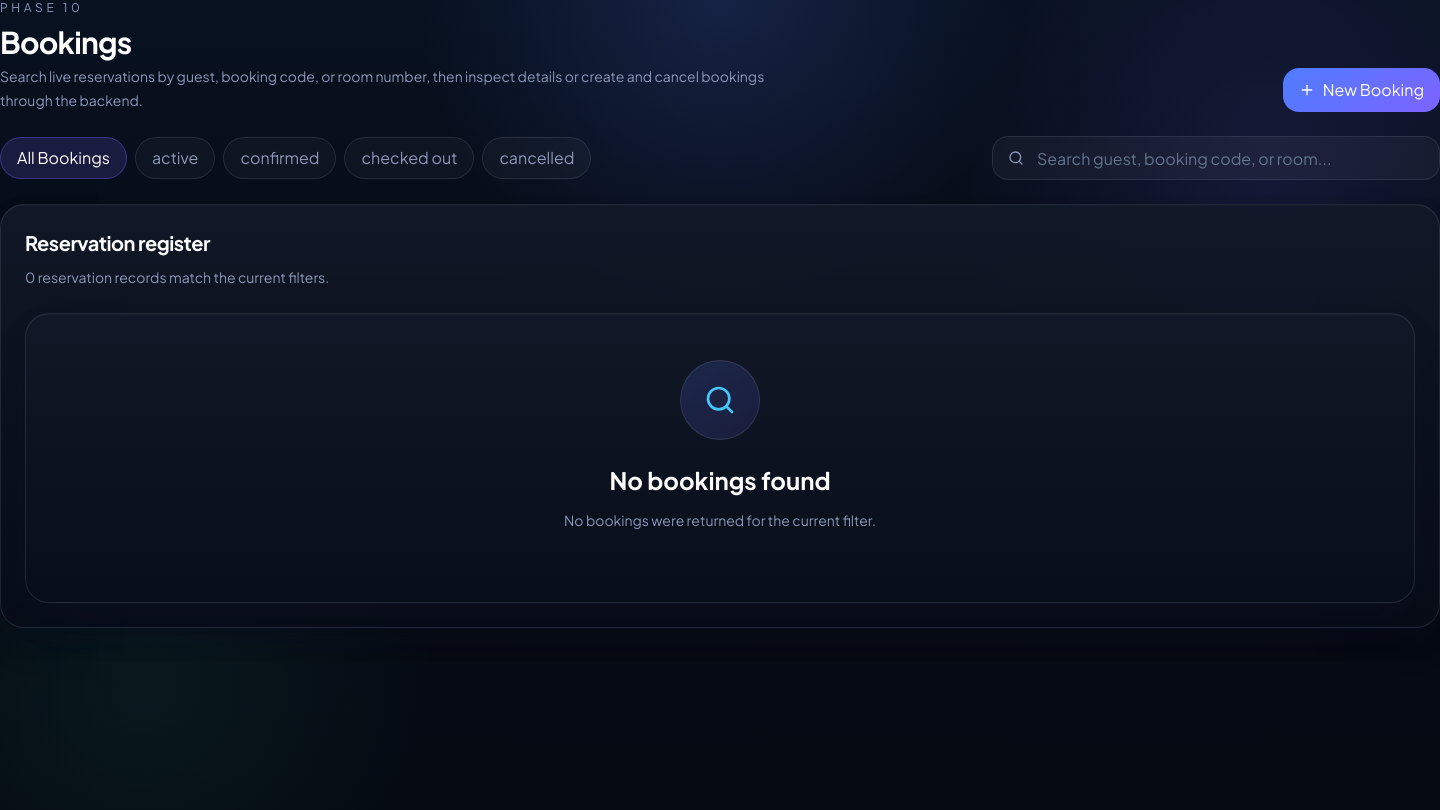
it: frontend components › booking form blocks end date before start date
The image size is (1440, 810).
Click the button "New Booking": (1361, 90) x1=1283 y1=68 x2=1439 y2=112
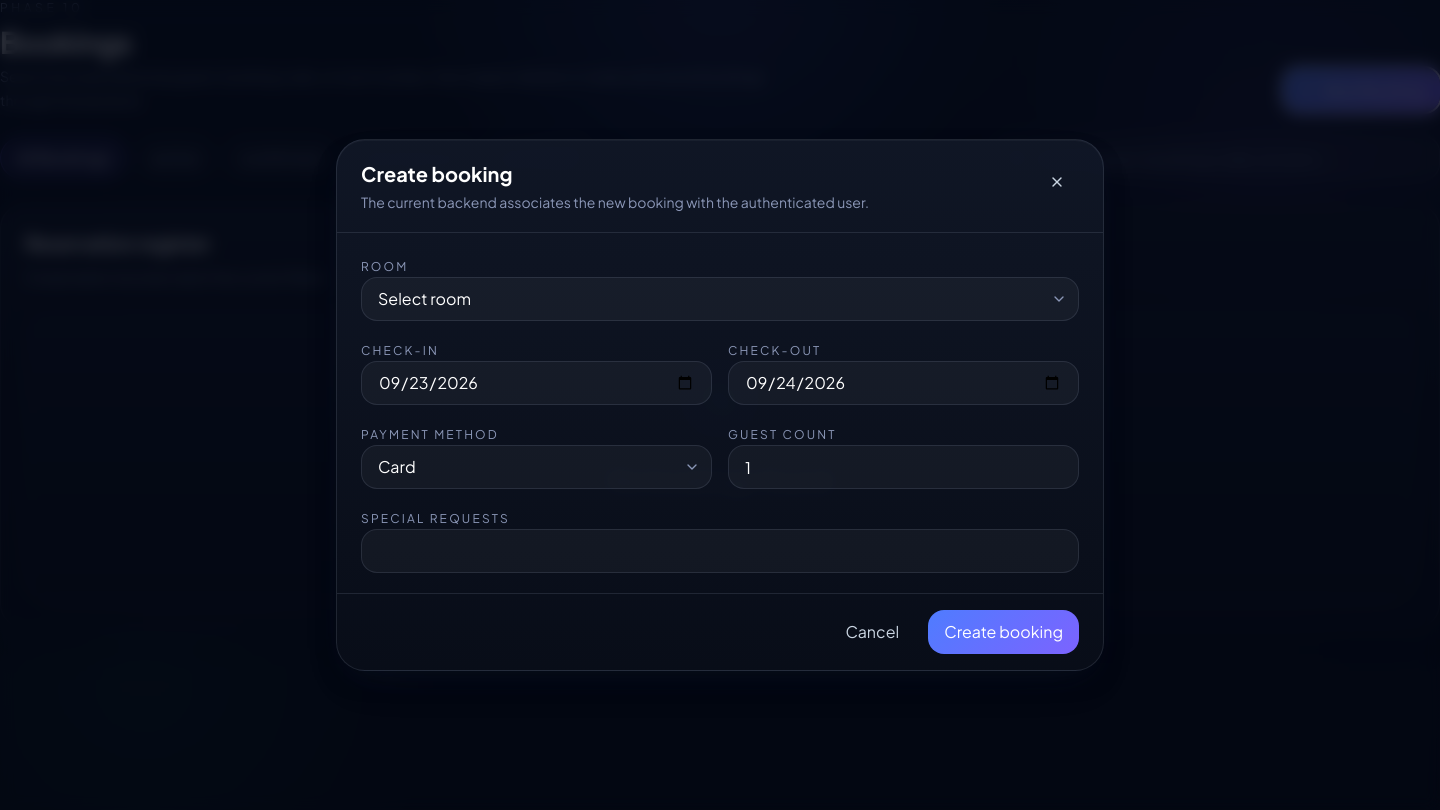
In the date field below "Check-out": (904, 383) x1=728 y1=361 x2=1079 y2=405, type "2020-01-01"
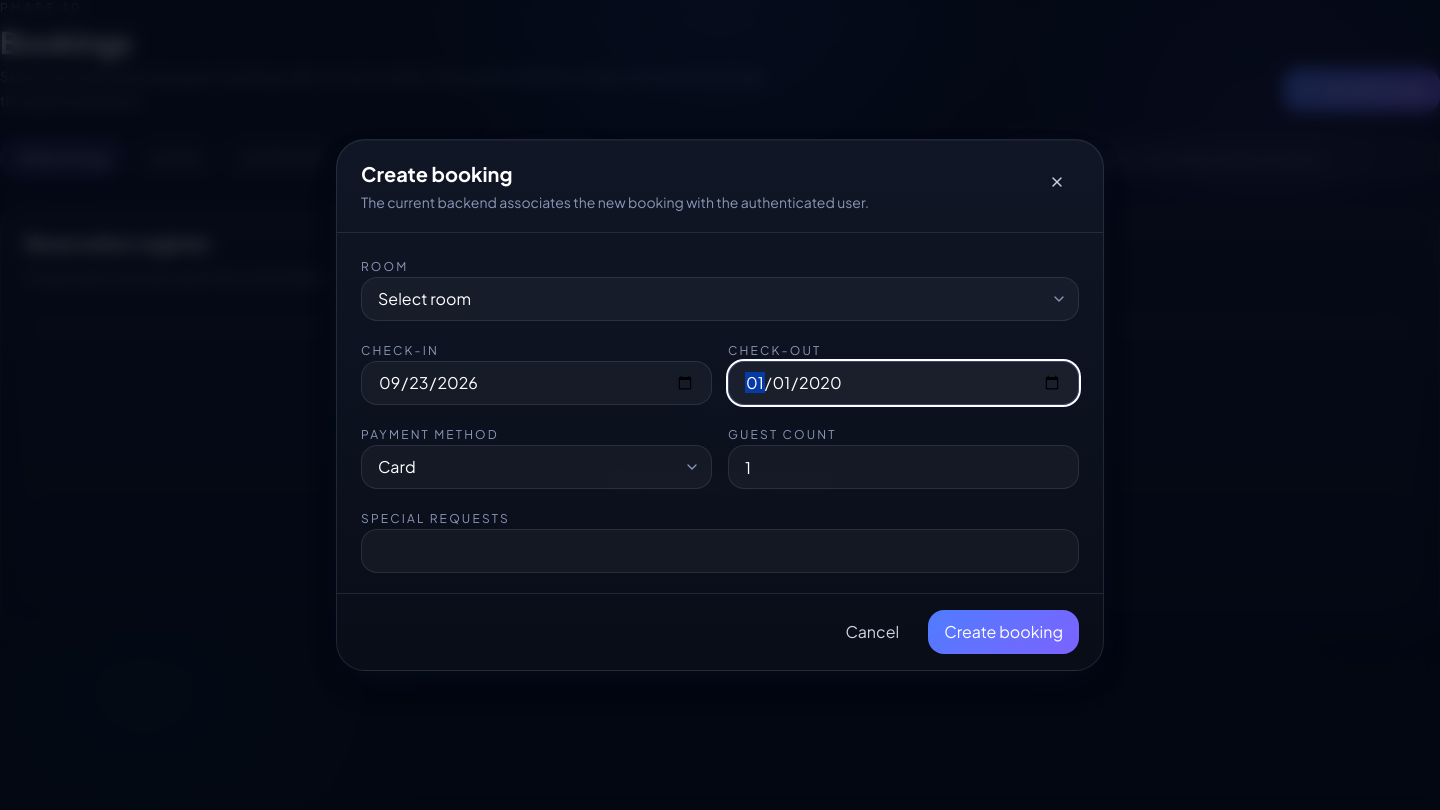
Click the button "Create booking": (1004, 632) x1=928 y1=610 x2=1079 y2=654
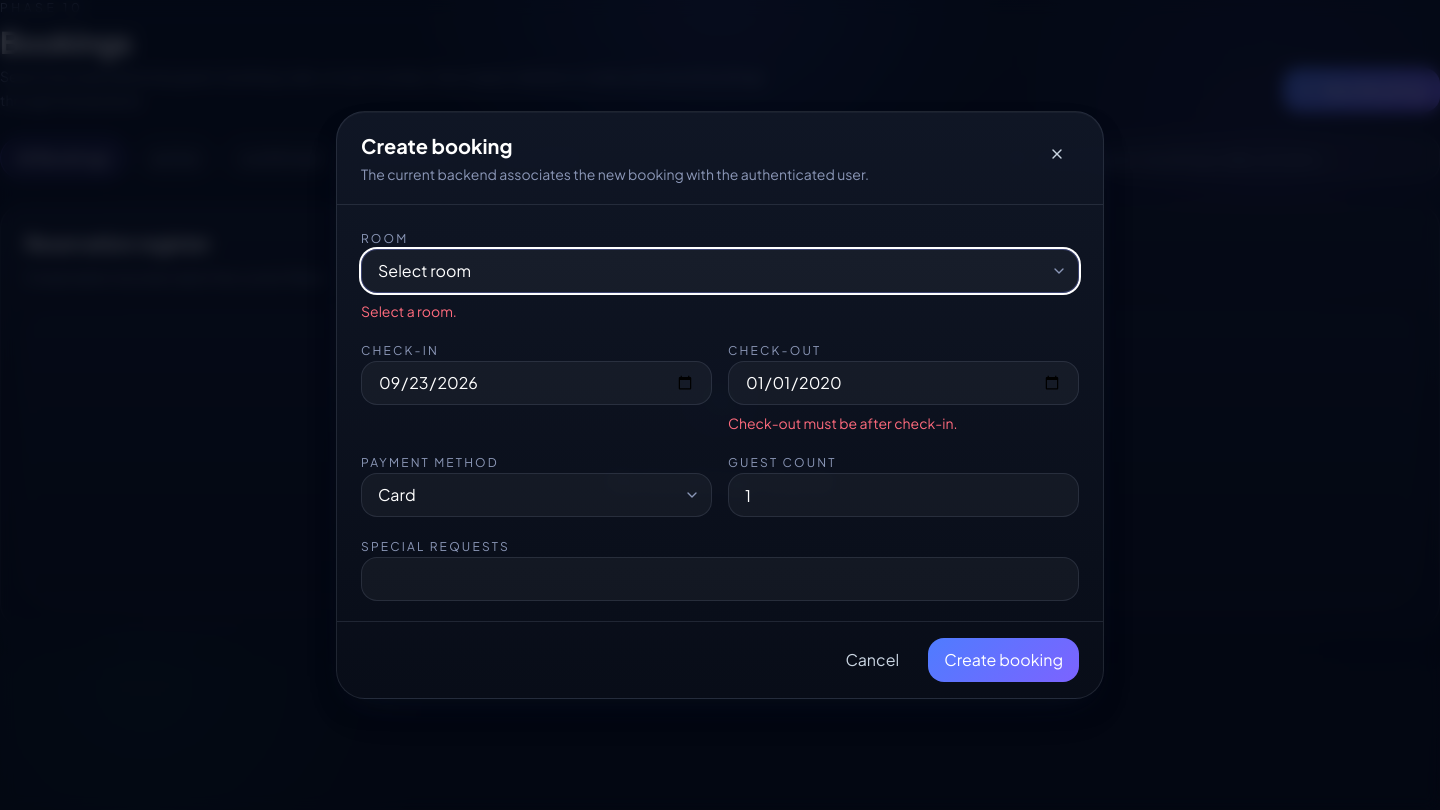
Result: the text "Check-out must be after check-in." is shown at x1=728 y1=414 x2=958 y2=432
